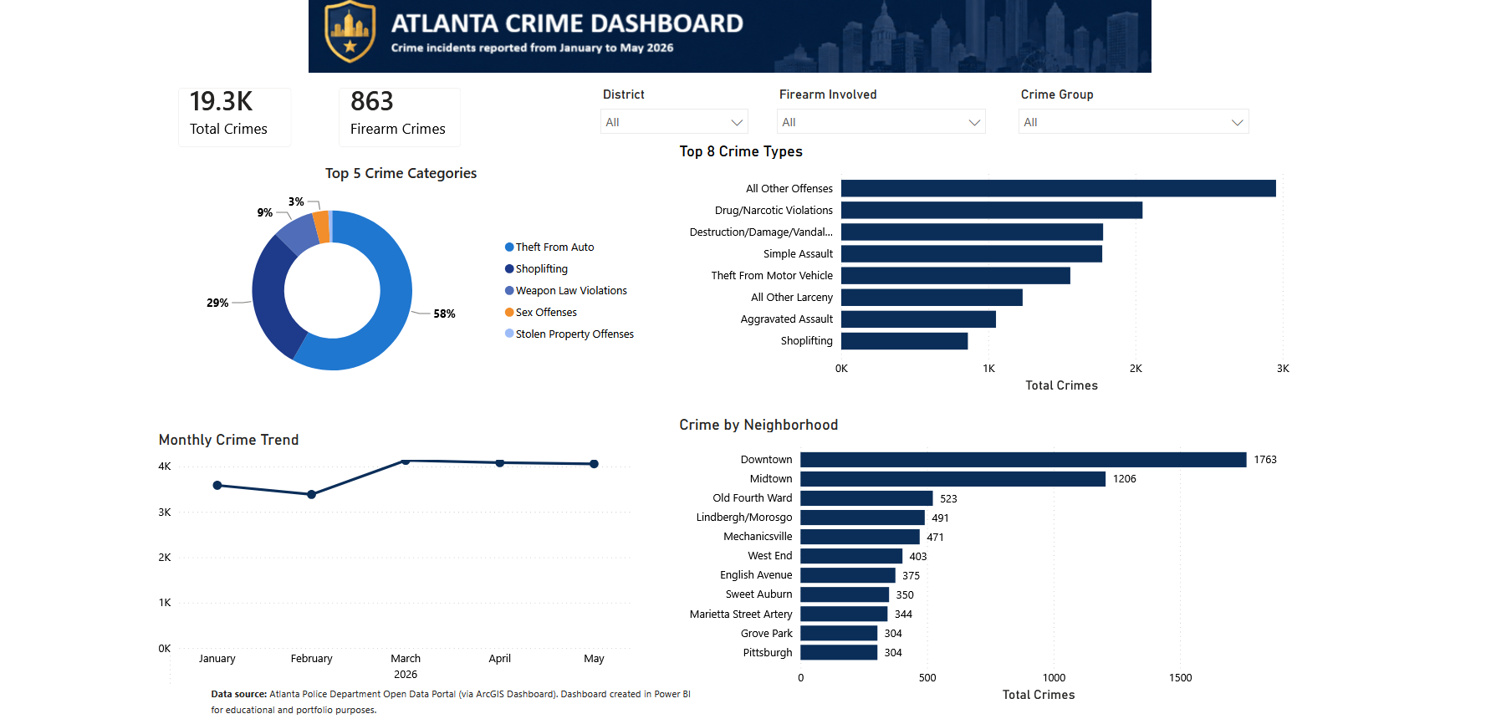

The page's visual inventory and layout, read from the dashboard file:
{"tool":"powerbi","page":{"name":"Atlanta Crime Dashboard","canvas":[1280,800],"ordinal":0},"visuals":[{"type":"clusteredBarChart","title":"Crime by Neighborhood","fields":{"Category":["Crime.NhoodName"],"Y":["Crime.Total Crimes"]},"box":[579.1,461.7,687.6,322.4],"z":0},{"type":"clusteredBarChart","title":"Top 8 Crime Types","fields":{"Category":["Crime.NIBRS_Offense"],"Y":["Crime.Total Crimes"]},"box":[579.1,158.2,687.6,282.6],"z":1000},{"type":"donutChart","title":"Top 5 Crime Categories","fields":{"Category":["Crime.Crime Grouping"],"Y":["Crime.Total Crimes"]},"box":[7,181.1,536.3,259.7],"z":2000},{"type":"cardVisual","fields":{"Data":["Crime.Firearm Crimes"]},"box":[189.1,80.6,170.1,100.5],"z":3000},{"type":"cardVisual","fields":{"Data":["Crime.Total Crimes"]},"box":[10,80.6,160.2,100.5],"z":4000},{"type":"image","box":[0,0,1280,80.7],"z":5000},{"type":"slicer","fields":{"Values":["Crime.DISTRICT"]},"box":[486.3,89.5,184.8,61.3],"z":6000},{"type":"slicer","fields":{"Values":["Crime.FireArmInvolved"]},"box":[681.8,89.5,252.9,61.3],"z":7000},{"type":"slicer","fields":{"Values":["Crime.Crime Grouping"]},"box":[950.3,89.5,276.2,61.3],"z":8000},{"type":"lineChart","title":"Monthly Crime Trend","fields":{"Category":["Date.Date.Variation.Date Hierarchy.Year","Date.Date.Variation.Date Hierarchy.Month"],"Y":["Crime.Total Crimes"]},"box":[0,478.6,536.3,292.5],"z":9000},{"type":"textbox","box":[58.7,760.2,554.2,39.8],"z":10000}]}

Visuals, with their boxes on the page's 1280x800 design canvas (x1, y1, x2, y2). These are canvas units, not pixel positions in the 1486x719 screenshot, which may show the page scaled, cropped or inside an application window:
"Crime by Neighborhood" clusteredBarChart: <region>579, 462, 1267, 784</region>
"Top 8 Crime Types" clusteredBarChart: <region>579, 158, 1267, 441</region>
"Top 5 Crime Categories" donutChart: <region>7, 181, 543, 441</region>
cardVisual - Crime.Firearm Crimes: <region>189, 81, 359, 181</region>
cardVisual - Crime.Total Crimes: <region>10, 81, 170, 181</region>
image: <region>0, 0, 1280, 81</region>
slicer - Crime.DISTRICT: <region>486, 90, 671, 151</region>
slicer - Crime.FireArmInvolved: <region>682, 90, 935, 151</region>
slicer - Crime.Crime Grouping: <region>950, 90, 1226, 151</region>
"Monthly Crime Trend" lineChart: <region>0, 479, 536, 771</region>
textbox: <region>59, 760, 613, 800</region>
